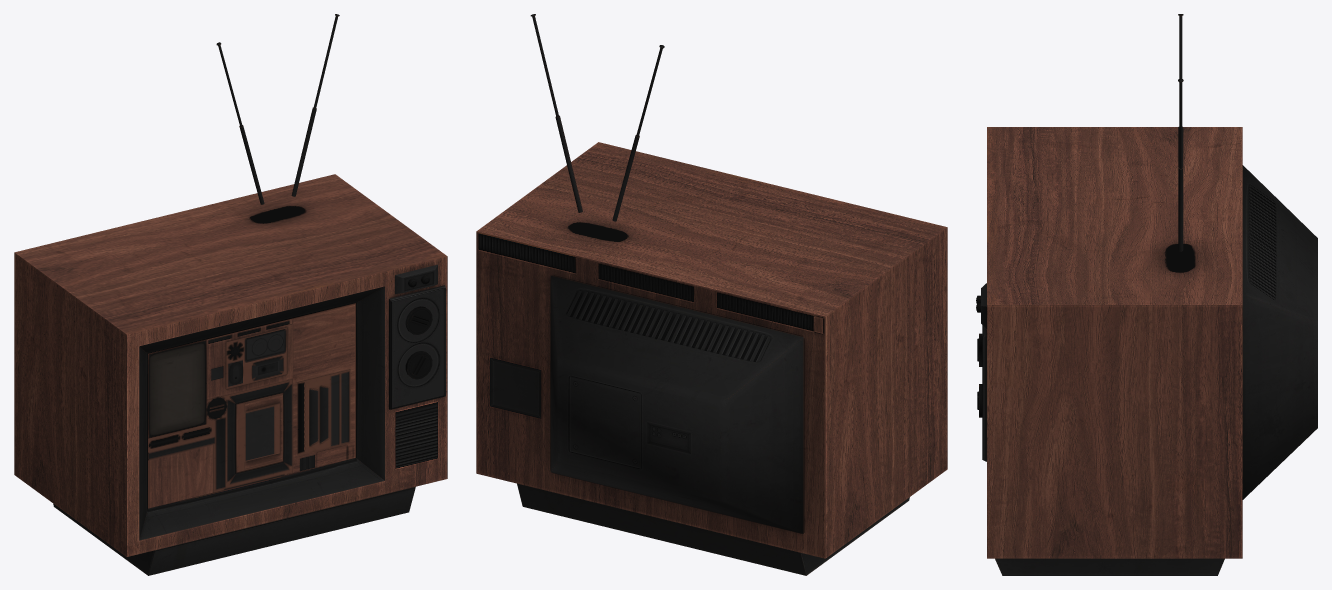
The model's file is TV_edit.fbx.
3 renders of one model, left to right at view 1: azimuth 30°, elevation 25°; view 2: azimuth 150°, elevation 25°; view 3: azimuth 270°, elevation 25°, orthographic. The views are drawn at different scales.
Visible parts, largest first — view 1: oldTV1; view 2: oldTV1; view 3: oldTV1.
Boxes of the visible parts, x1=… form: oldTV1: x1=14, y1=14, x2=447, y2=575; oldTV1: x1=476, y1=14, x2=947, y2=575; oldTV1: x1=976, y1=14, x2=1317, y2=575.
Size of the model in its own units: 3.29 by 4.3 by 2.66.
